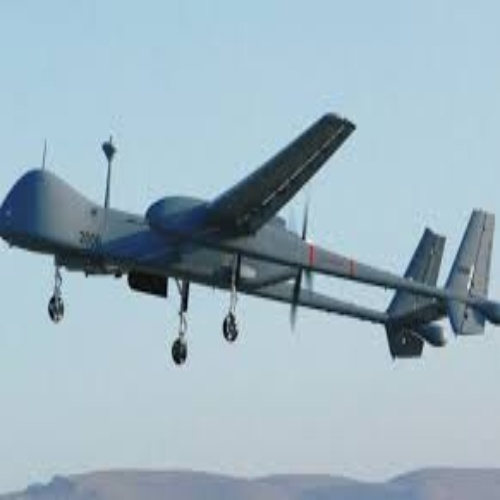uav18: (2, 113, 500, 365)
